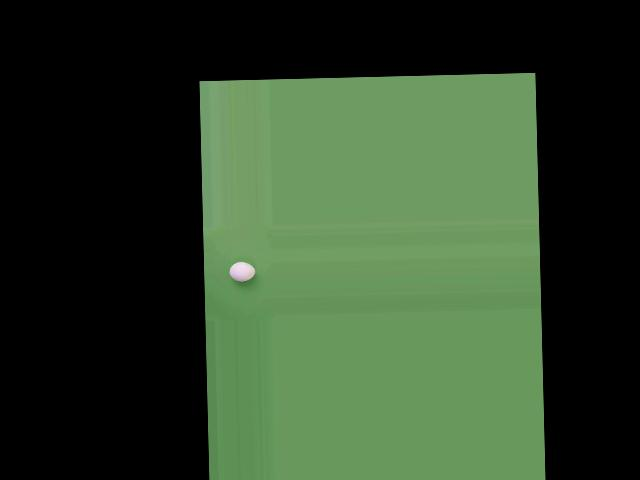egg: (228, 261, 255, 281)
